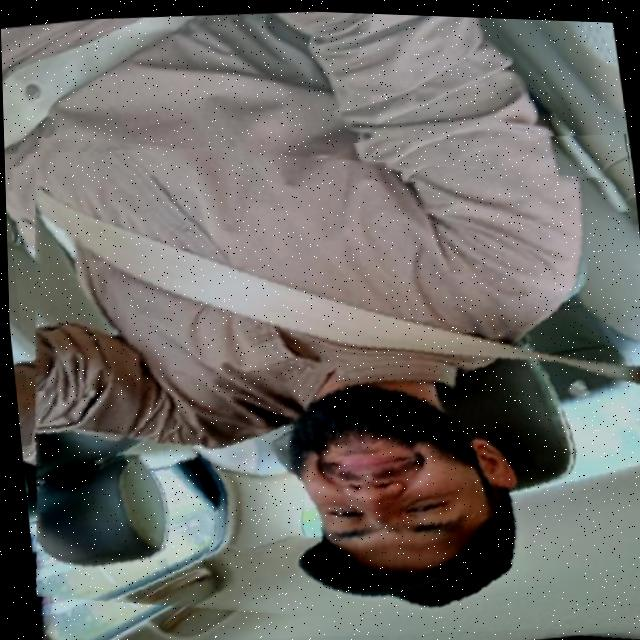seatbelt: (3, 110, 640, 640)
